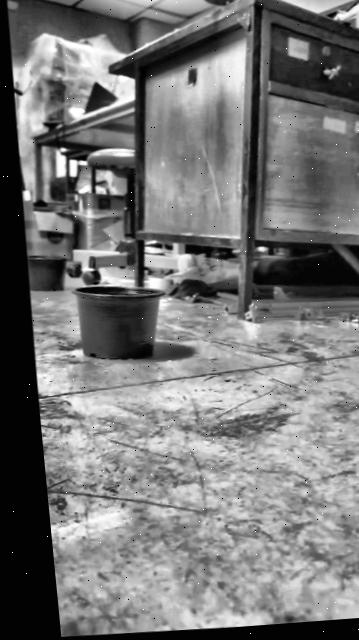pot: (72, 281, 170, 364), (25, 252, 69, 292)
